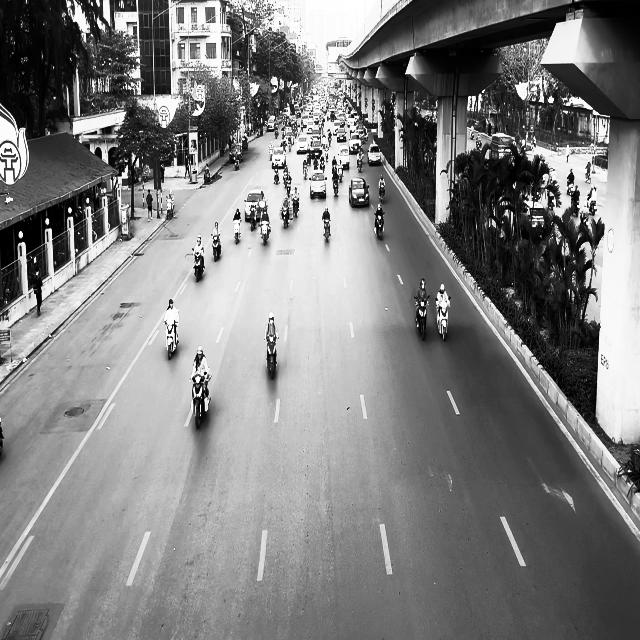car: (244, 189, 265, 220), (348, 178, 369, 208), (309, 169, 327, 198), (271, 146, 286, 168), (367, 143, 381, 165), (338, 144, 349, 169)
motorbike: (190, 370, 211, 429), (435, 295, 451, 341), (414, 294, 429, 340), (164, 318, 179, 360), (264, 335, 278, 379), (192, 248, 204, 282), (259, 219, 271, 245), (374, 209, 384, 240), (212, 234, 221, 262), (322, 218, 331, 242), (281, 205, 290, 228), (233, 219, 241, 244), (332, 172, 339, 197), (249, 208, 256, 231), (292, 197, 299, 217), (379, 184, 385, 202)
